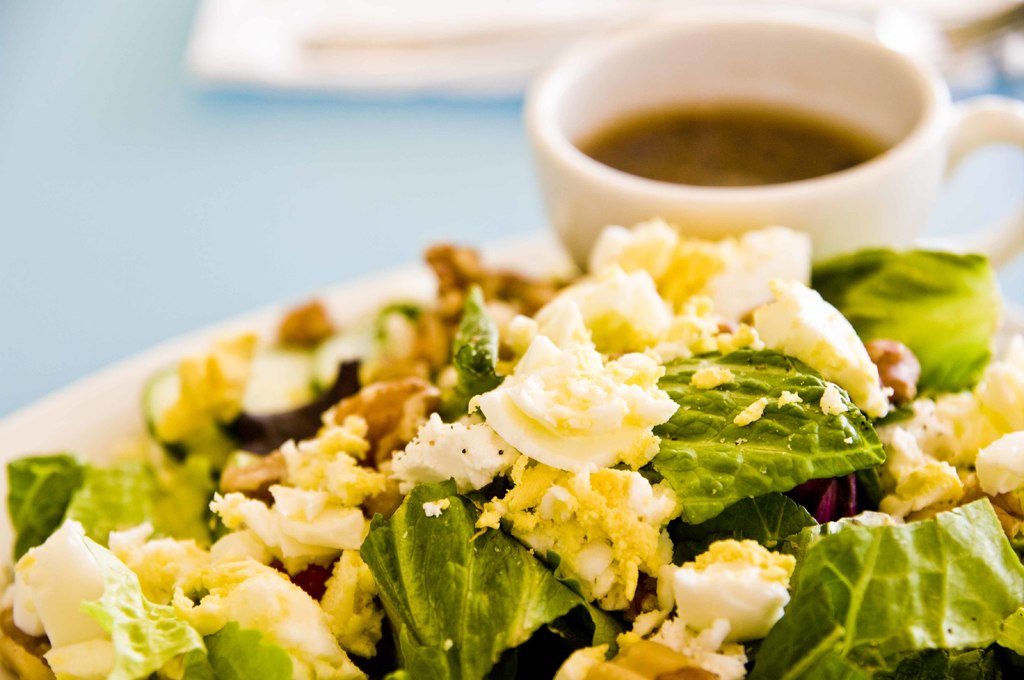salad: (2, 210, 1023, 679)
